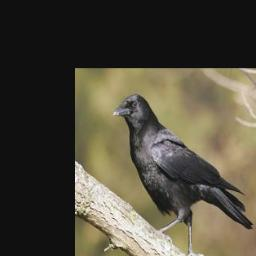Crow: (109, 92, 254, 256)
